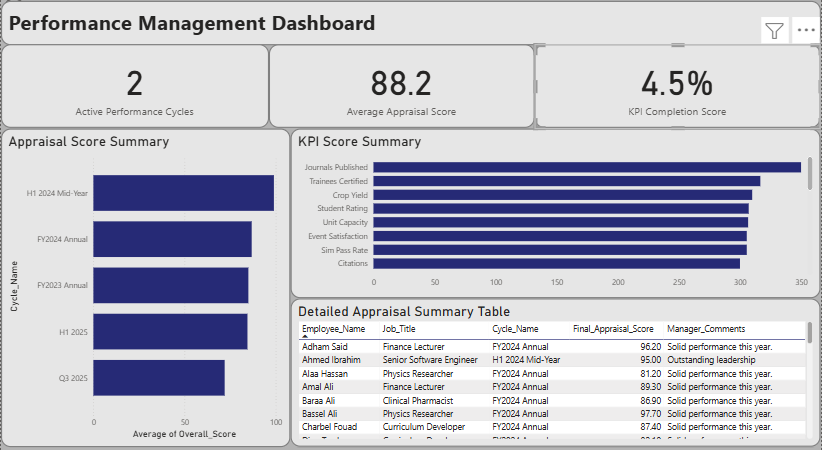

This screenshot's page, from the dashboard's own definition file:
{"tool":"powerbi","page":{"name":"Performance Management ","canvas":[1280,720],"ordinal":2},"visuals":[{"type":"card","fields":{"Values":["Avg(vw_performance.Final_Appraisal_Score)"]},"box":[418.3,79,414.9,131],"z":0},{"type":"actionButton","box":[0,0,100,40],"z":1000},{"type":"clusteredBarChart","title":"Appraisal Score Summary","fields":{"Category":["v_appraisal_scores_per_cycle.Cycle_Name"],"Y":["Avg(v_appraisal_scores_per_cycle.Overall_Score)"]},"box":[0,210,451.4,497.1],"z":2000},{"type":"clusteredBarChart","title":"KPI Score Summary","fields":{"Category":["vw_performance.KPI_Name"],"Y":["Sum(vw_performance.KPI_Score)"]},"box":[452,210,827.5,265.1],"z":3000},{"type":"textbox","box":[0,10.1,1280,68.9],"z":4000},{"type":"card","fields":{"Values":["vw_performance.KPI Completion %"]},"box":[833.2,79,446.8,131],"z":5000},{"type":"tableEx","title":"Detailed Appraisal Summary Table","fields":{"Values":["vw_performance.Employee_Name","vw_performance.Job_Title","vw_performance.Cycle_Name","vw_performance.Final_Appraisal_Score","vw_performance.Manager_Comments"]},"box":[452,475.1,827.5,231.3],"z":6000},{"type":"card","fields":{"Values":["Count(vw_performance.Cycle_Name)"]},"box":[0,79,418.3,131],"z":7000}]}

Visuals, with their boxes in screenshot pixels (x1, y1, x2, y2), scaled from the page's 1280x720 canvas onto the 822x450 screenshot:
card - Avg(vw_performance.Final_Appraisal_Score): 269:49:535:131
actionButton: 0:0:64:25
"Appraisal Score Summary" clusteredBarChart: 0:131:290:442
"KPI Score Summary" clusteredBarChart: 290:131:821:297
textbox: 0:6:821:49
card - vw_performance.KPI Completion %: 535:49:821:131
"Detailed Appraisal Summary Table" tableEx: 290:297:821:442
card - Count(vw_performance.Cycle_Name): 0:49:269:131
